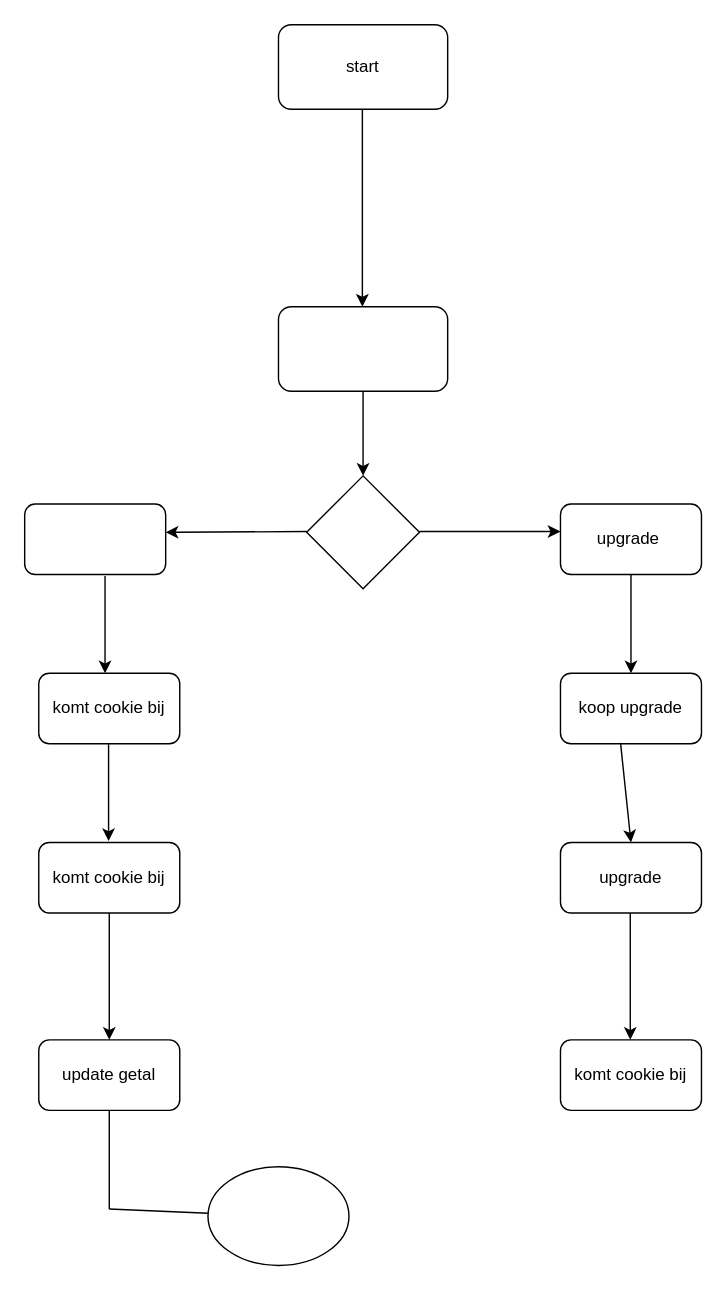
This 726x1290 diagram has some shape labels left out. The centre of each missing label's shape, as x and y in pixels:
click cookie: [94,539]
einde: [278,1215]
status: [362,348]
wachten op actie: [362,531]
